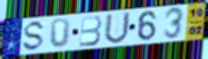0: (49, 17, 72, 50)
3: (162, 6, 185, 42)
6: (136, 9, 159, 43)
B: (78, 15, 103, 48)
S: (21, 20, 47, 53)
U: (103, 11, 132, 46)
